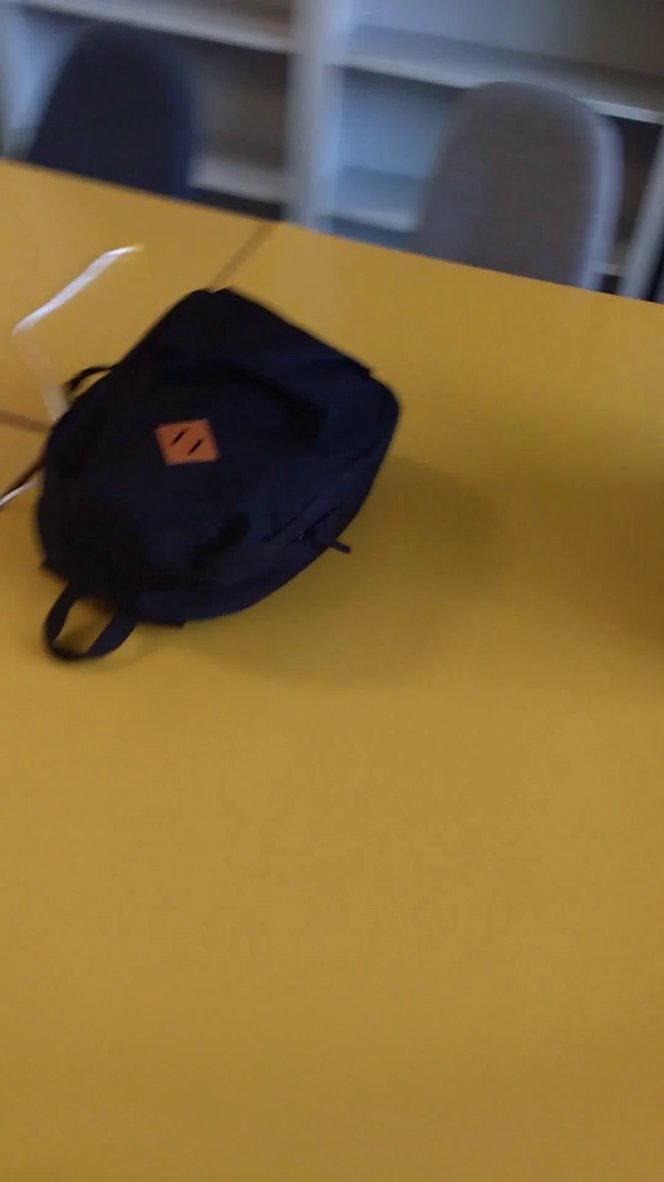bag: (28, 275, 407, 672)
chair: (394, 70, 637, 329), (19, 14, 213, 219)
